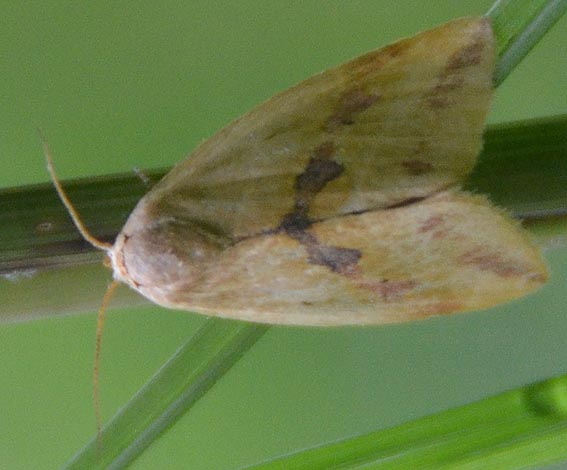Noctuidae: (40, 14, 546, 462)
